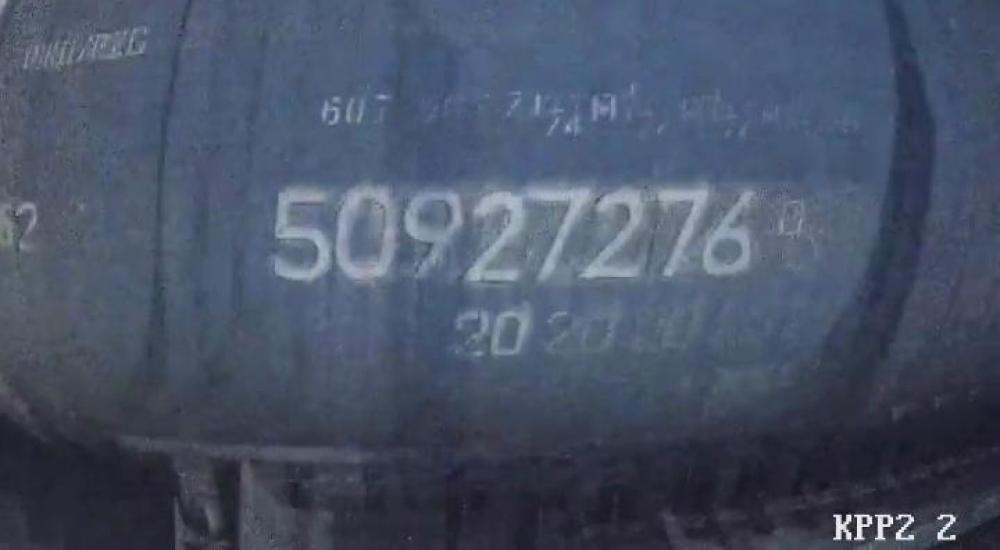Wagon-number: (266, 181, 766, 290)
